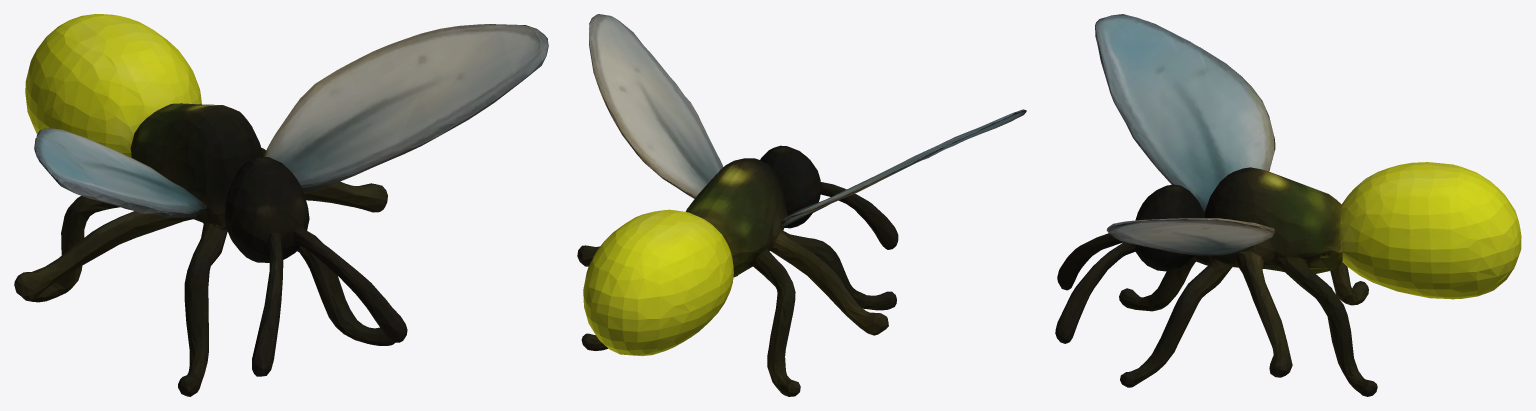
3 views of the same model, side by side, from view 1: azimuth 30°, elevation 25°; view 2: azimuth 150°, elevation 25°; view 3: azimuth 270°, elevation 25° (orthographic). The views are drawn at different scales.
Visible parts, largest first — view 1: world; view 2: world; view 3: world.
Part boxes in pixels (x1=…): world: x1=14, y1=14, x2=548, y2=396; world: x1=577, y1=14, x2=1026, y2=396; world: x1=1055, y1=14, x2=1521, y2=396.
Bounding box in the file's own units: 1 × 0.5198 × 0.9431.
Materials: 1 (1 with a texture image).
